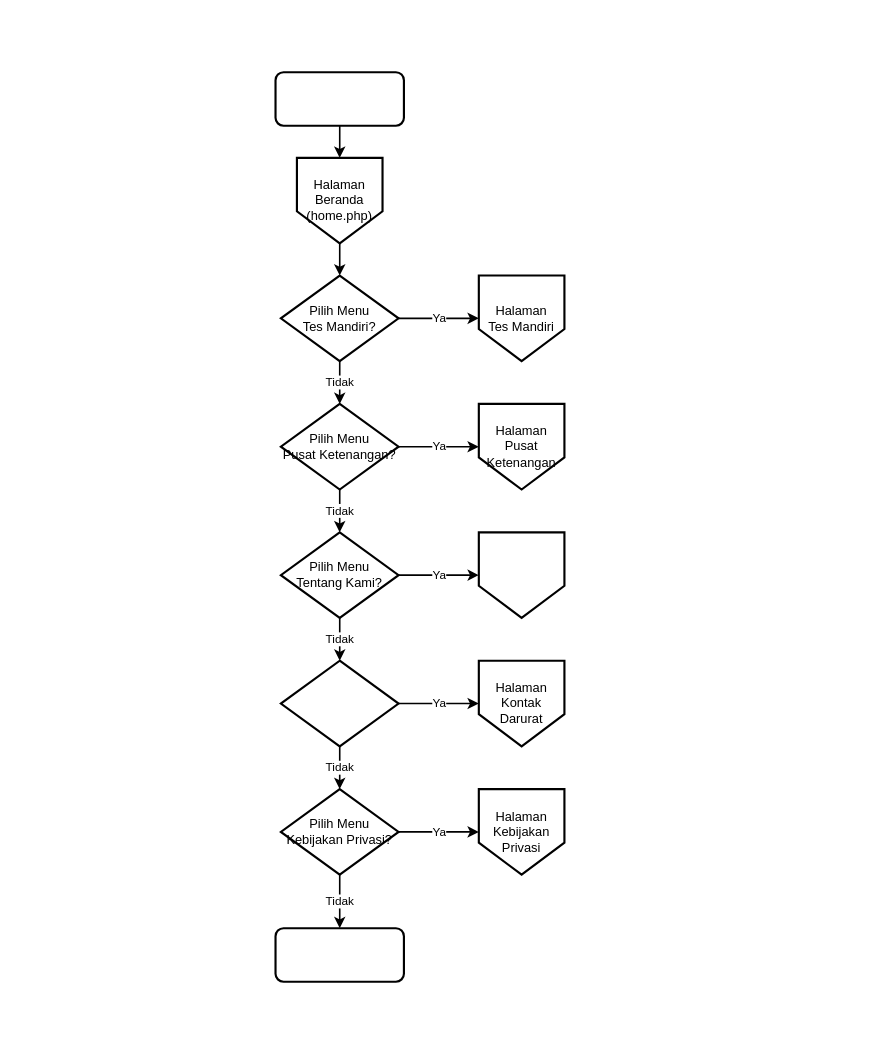
The diagram is 892 pixels wide and 1053 high, and some of its shapes have lost their labels. The shapes that lost their labels are listed below. From the top down, each one's centre as x and y in pixels, then its label:
the point at 339,98: Mulai
the point at 521,574: Halaman Tentang Kami
the point at 339,703: Pilih Menu Kontak Darurat?
the point at 339,954: Selesai
